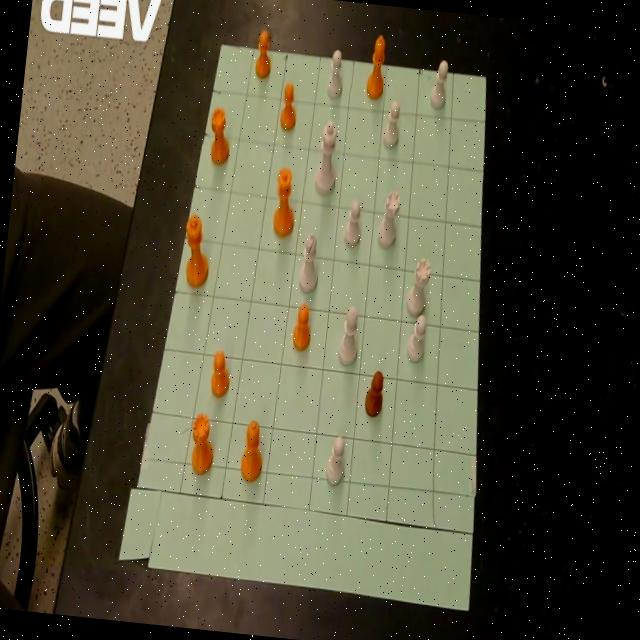orange_bishop: (238, 420, 266, 482), (366, 32, 388, 99)
orange_king: (178, 210, 214, 290)
orange_pawn: (208, 347, 232, 398), (362, 369, 385, 417), (292, 300, 314, 350), (253, 28, 274, 78), (279, 81, 299, 130)
orange_queen: (270, 165, 300, 237)
orange_rook: (188, 412, 218, 476), (206, 104, 234, 164)
white_bishop: (336, 303, 362, 365), (298, 230, 322, 293)
white_king: (314, 117, 342, 193)
white_pawn: (324, 433, 348, 486), (405, 312, 428, 362), (342, 197, 364, 248), (429, 57, 450, 109), (326, 47, 346, 98), (382, 98, 402, 149)
white_rook: (405, 254, 432, 317), (376, 186, 402, 248)
